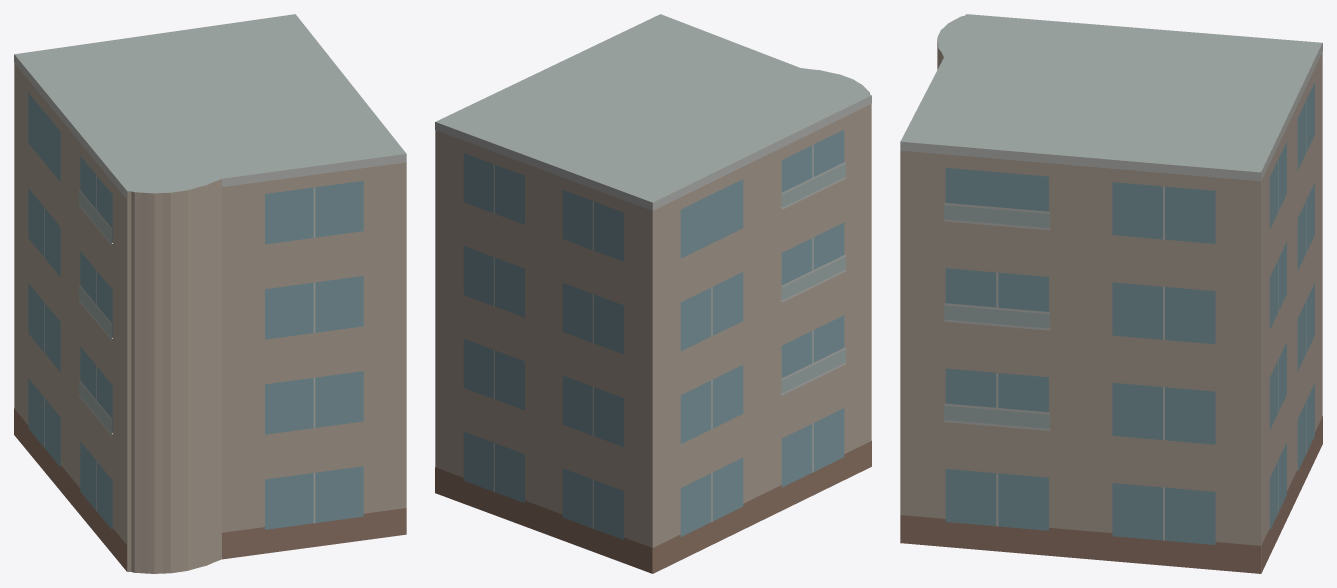
File: survey-upis-33001224.glb
3 renders of one model, left to right at view 1: azimuth 30°, elevation 25°; view 2: azimuth 150°, elevation 25°; view 3: azimuth 270°, elevation 25°, orthographic. The views are drawn at different scales.
Parts seen in each view (by area): view 1: survey-upis-33001224.tmp; view 2: survey-upis-33001224.tmp; view 3: survey-upis-33001224.tmp.
Boxes of the visible parts, x1=… form: survey-upis-33001224.tmp: x1=14, y1=14, x2=406, y2=573; survey-upis-33001224.tmp: x1=435, y1=14, x2=871, y2=573; survey-upis-33001224.tmp: x1=900, y1=14, x2=1322, y2=573.
Size of the model in its own units: 9.32 by 11 by 10.5.
